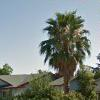Palm tree: (39, 7, 91, 97)
